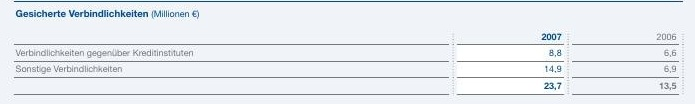table: (0, 0, 695, 104)
